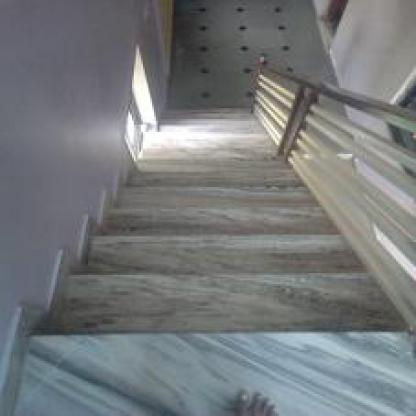stair_down: (41, 202, 370, 358)
